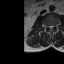CCS_stenosis: (50, 24, 52, 31)
LFS_normal: (53, 23, 55, 28)
LLS_normal: (52, 24, 53, 29)
RFS_normal: (47, 23, 49, 29)
RLS_normal: (49, 24, 50, 29)
